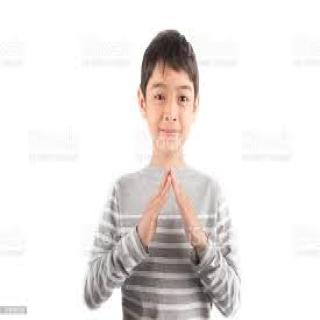House: (129, 159, 211, 266)
